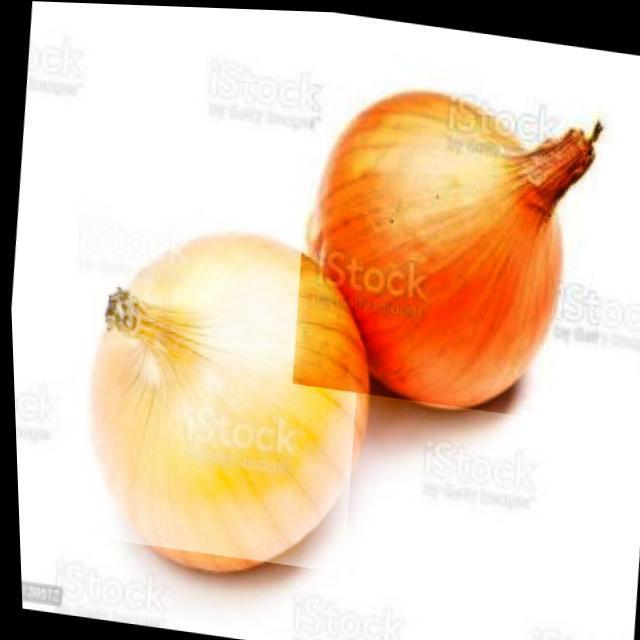Onion: (28, 184, 376, 572), (280, 55, 622, 422)
